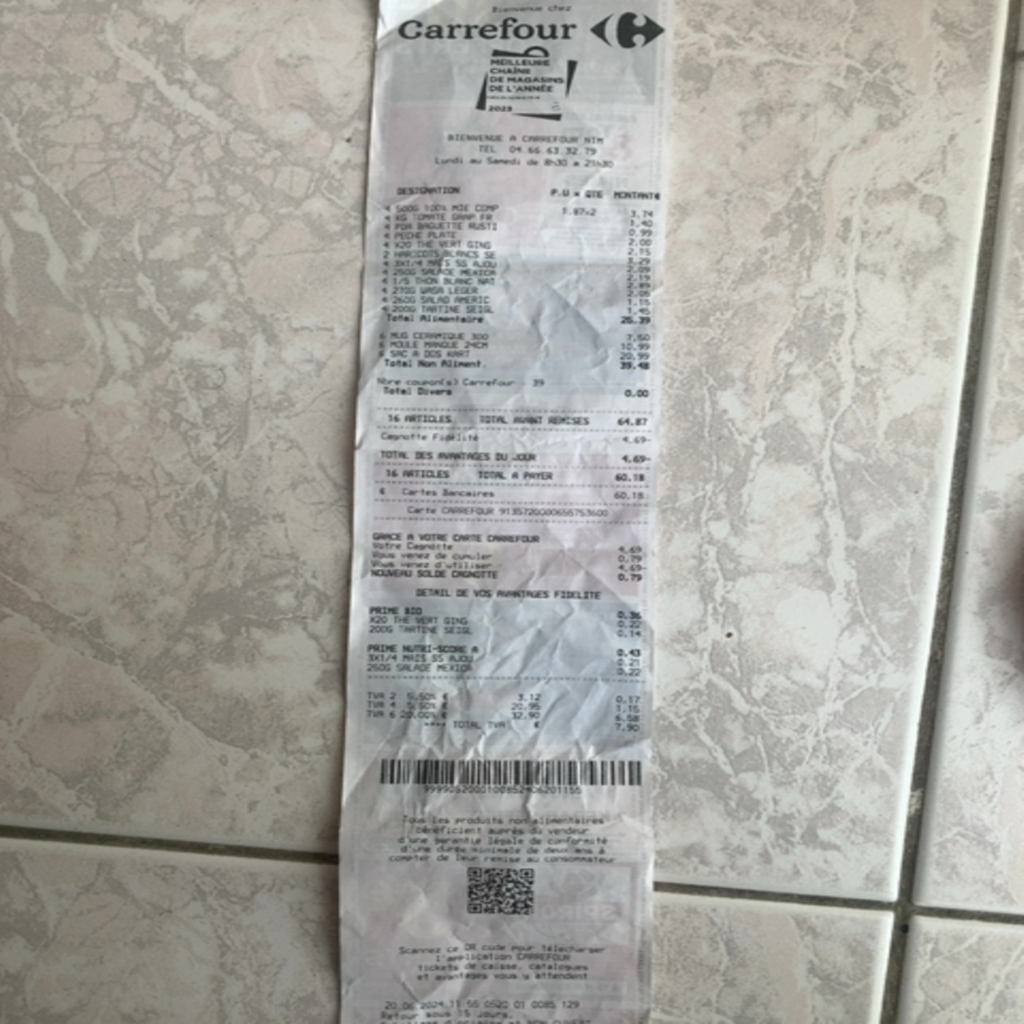recipt: (336, 4, 663, 1009)
